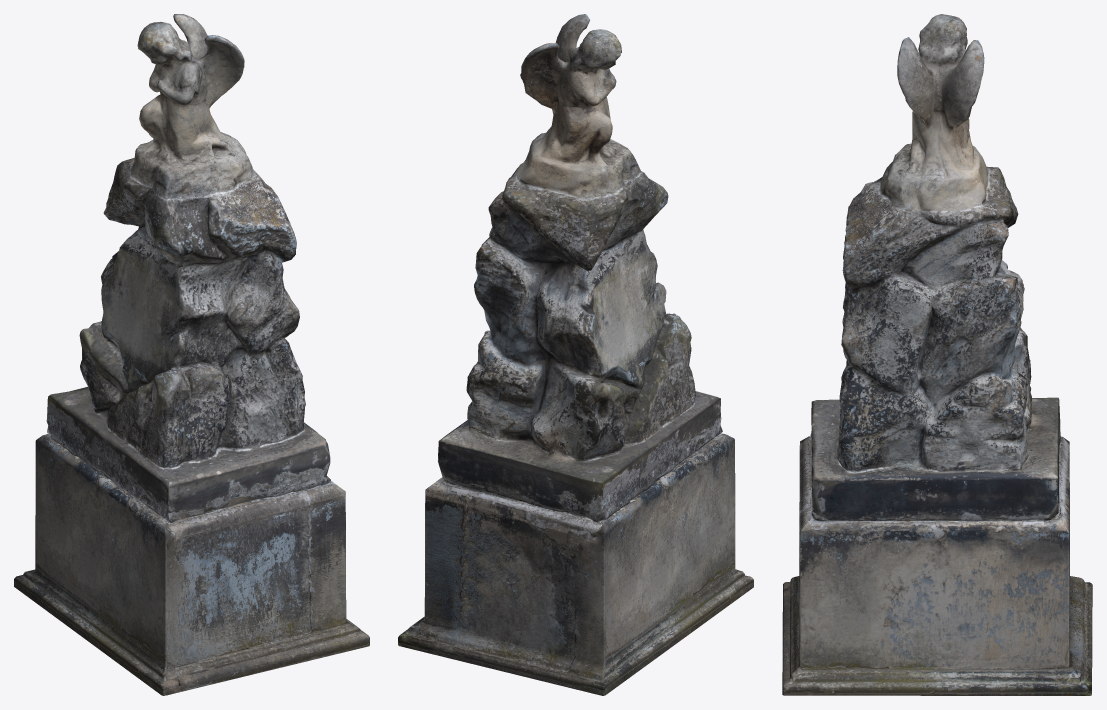
The model's file is sm_GraveSculpture_01_01.fbx.
3 renders of one model, left to right at view 1: azimuth 30°, elevation 25°; view 2: azimuth 150°, elevation 25°; view 3: azimuth 270°, elevation 25°, orthographic. The views are drawn at different scales.
Parts seen in each view (by area): view 1: sm_GraveSculpture_01_01_LOD0; view 2: sm_GraveSculpture_01_01_LOD0; view 3: sm_GraveSculpture_01_01_LOD0.
Part boxes in pixels (bbox=[...]): sm_GraveSculpture_01_01_LOD0: bbox=[14, 14, 369, 695]; sm_GraveSculpture_01_01_LOD0: bbox=[398, 14, 753, 695]; sm_GraveSculpture_01_01_LOD0: bbox=[782, 14, 1092, 695].
Bounding box in the file's own units: 87.45 × 110 × 239.
